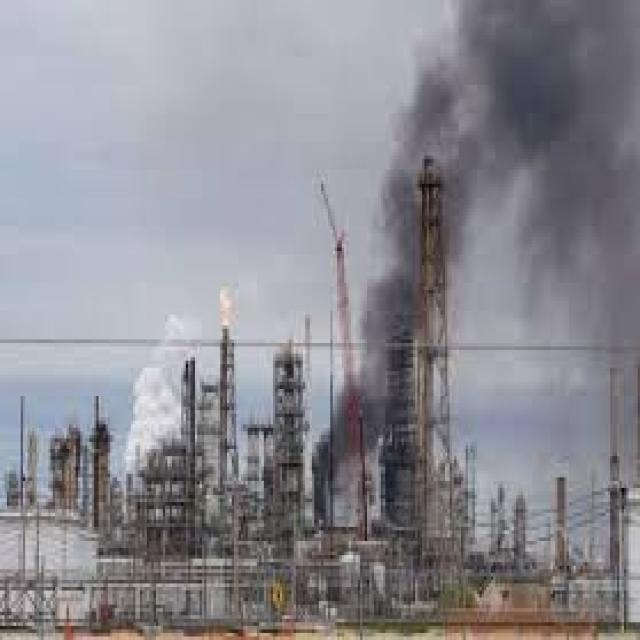Smoke: (308, 0, 640, 474), (123, 316, 194, 476)
